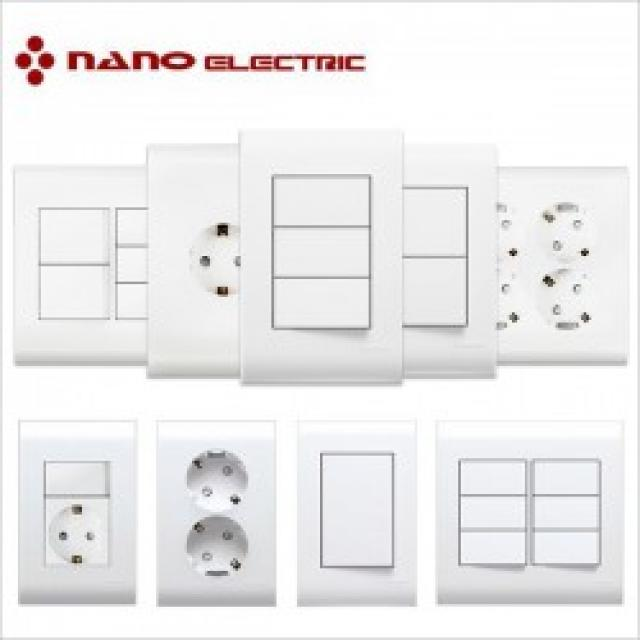typeb: (498, 146, 630, 378), (154, 402, 285, 613), (142, 131, 243, 393), (15, 406, 139, 616)
